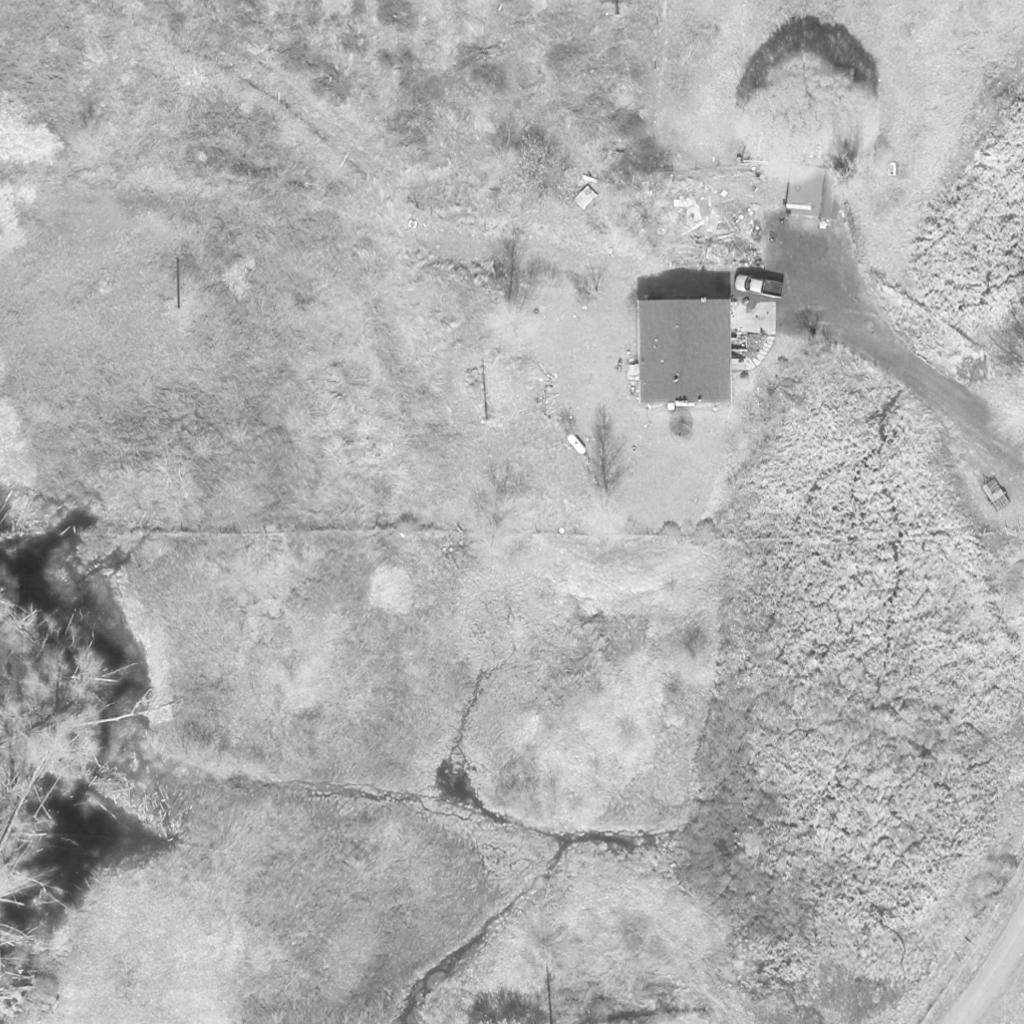vehicle: (733, 271, 785, 301)
